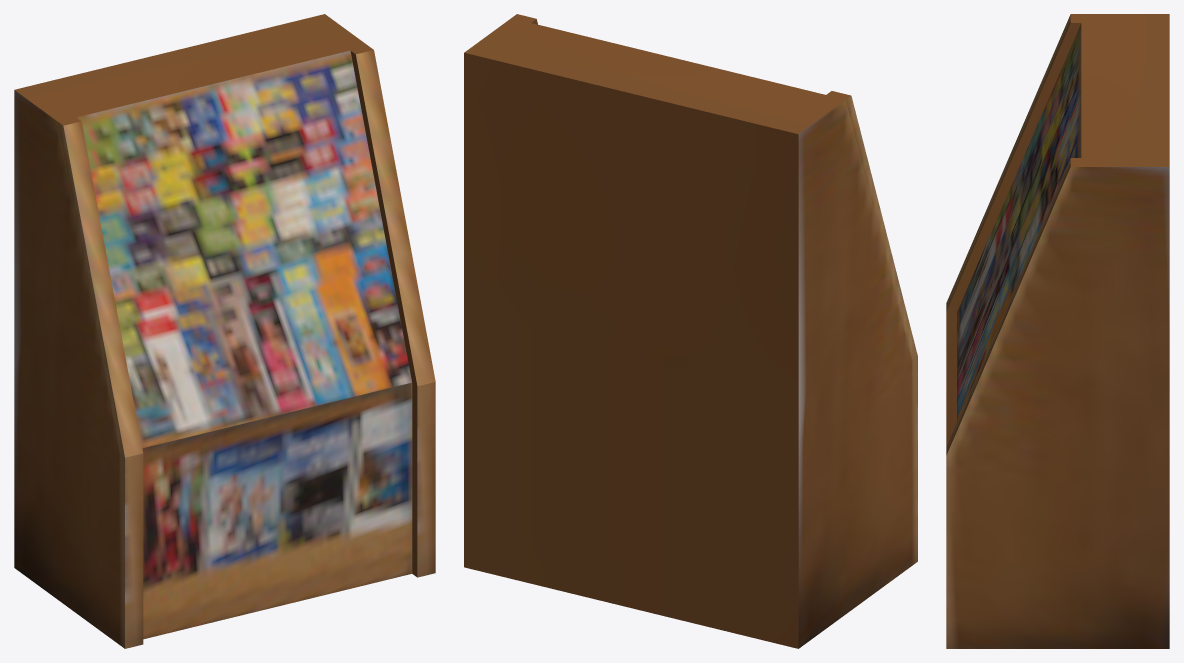
The model's file is pamphletholder.fbx.
The picture shows the model from 3 angles, left to right: view 1: azimuth 30°, elevation 25°; view 2: azimuth 150°, elevation 25°; view 3: azimuth 270°, elevation 25°; orthographic projection. The views are drawn at different scales.
Visible parts, largest first — view 1: Cube; view 2: Cube; view 3: Cube.
Part boxes in pixels (left/top/right/bottom): Cube: left=14, top=14, right=435, bottom=648; Cube: left=464, top=14, right=917, bottom=648; Cube: left=946, top=14, right=1169, bottom=648.
Size of the model in its own units: 340 by 500 by 210.
